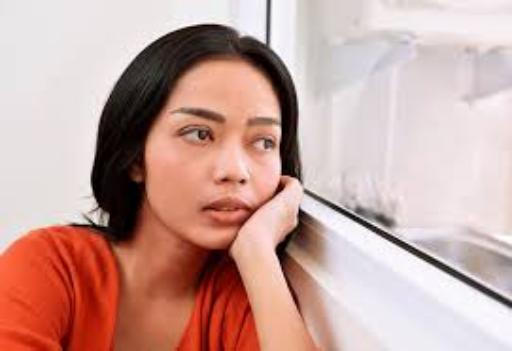left_eye: (252, 137, 277, 152)
left_lip_corner: (244, 203, 258, 217)
right_eye: (179, 126, 215, 146)
right_lip_corner: (195, 200, 216, 218)
